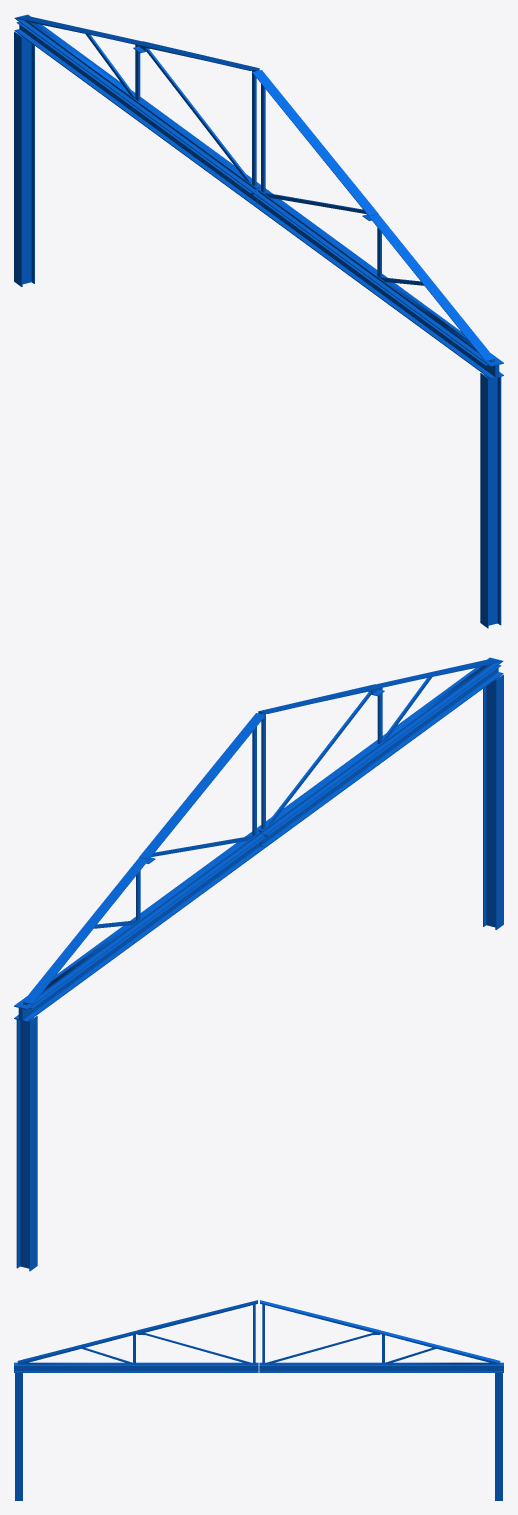
Rendered from Warehouse_06_Metal_01.fbx.
3 views of the same model, one above another, from view 1: azimuth 30°, elevation 25°; view 2: azimuth 150°, elevation 25°; view 3: azimuth 270°, elevation 25° (orthographic). The views are drawn at different scales.
Visible parts, largest first — view 1: Warehouse_06_Metal_01; view 2: Warehouse_06_Metal_01; view 3: Warehouse_06_Metal_01.
Boxes of the visible parts, x1,y1,x2,y2 form: Warehouse_06_Metal_01: (14,14,503,628); Warehouse_06_Metal_01: (14,657,503,1271); Warehouse_06_Metal_01: (14,1300,503,1500).
Bounding box in the file's own units: 31.73 × 768 × 1726.
